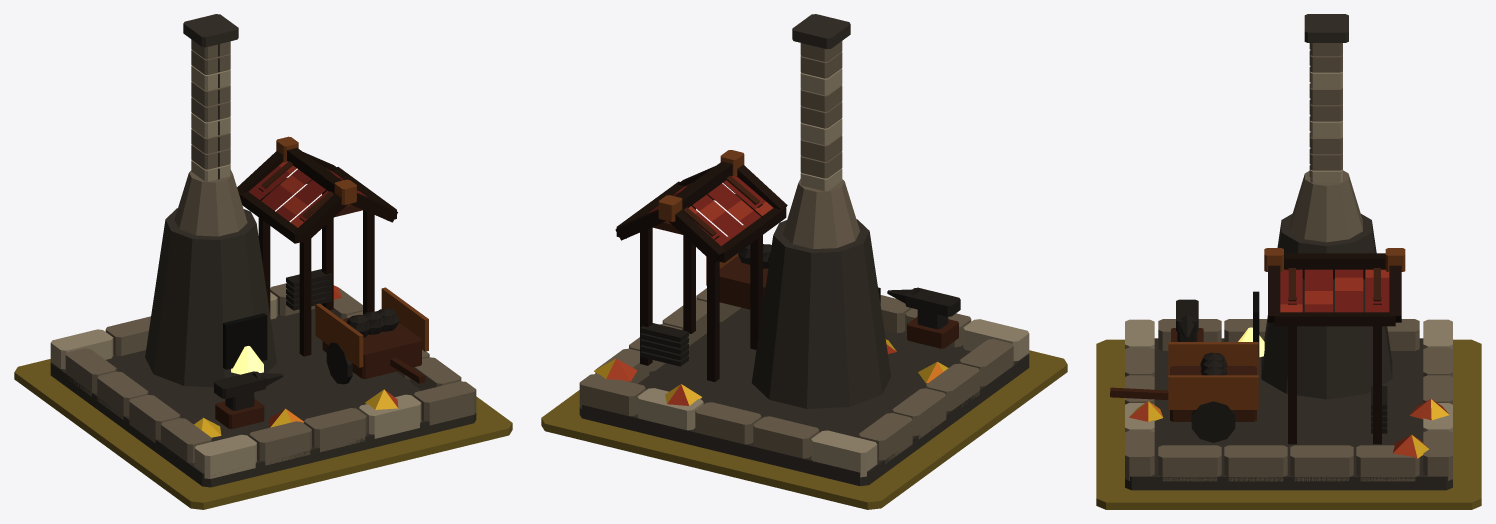
File: smeltery_t5.glb
The picture shows the model from 3 angles, left to right: view 1: azimuth 30°, elevation 25°; view 2: azimuth 150°, elevation 25°; view 3: azimuth 270°, elevation 25°; orthographic projection. The views are drawn at different scales.
Visible parts, largest first — view 1: MMR | smeltery | T05 Architecture.001, MMR | smeltery | Tier 05 Ground.001, MMR | smeltery | T05 Autumn Dressing.001, MMR | smeltery | T05 Flame Glow.001; view 2: MMR | smeltery | T05 Architecture.001, MMR | smeltery | Tier 05 Ground.001, MMR | smeltery | T05 Autumn Dressing.001; view 3: MMR | smeltery | T05 Architecture.001, MMR | smeltery | Tier 05 Ground.001, MMR | smeltery | T05 Autumn Dressing.001.
Part boxes in pixels (left/top/right/bottom): MMR | smeltery | T05 Architecture.001: left=50, top=14, right=476, bottom=487; MMR | smeltery | Tier 05 Ground.001: left=14, top=359, right=512, bottom=509; MMR | smeltery | T05 Autumn Dressing.001: left=194, top=285, right=398, bottom=437; MMR | smeltery | T05 Flame Glow.001: left=231, top=346, right=263, bottom=374; MMR | smeltery | T05 Architecture.001: left=579, top=14, right=1029, bottom=486; MMR | smeltery | Tier 05 Ground.001: left=541, top=350, right=1067, bottom=509; MMR | smeltery | T05 Autumn Dressing.001: left=594, top=339, right=948, bottom=405; MMR | smeltery | T05 Architecture.001: left=1110, top=14, right=1452, bottom=490; MMR | smeltery | Tier 05 Ground.001: left=1096, top=339, right=1481, bottom=509; MMR | smeltery | T05 Autumn Dressing.001: left=1129, top=399, right=1449, bottom=458.
Bounding box in the file's own units: 2.35 × 2.61 × 2.35.
Materials: 2 (1 with a texture image).
